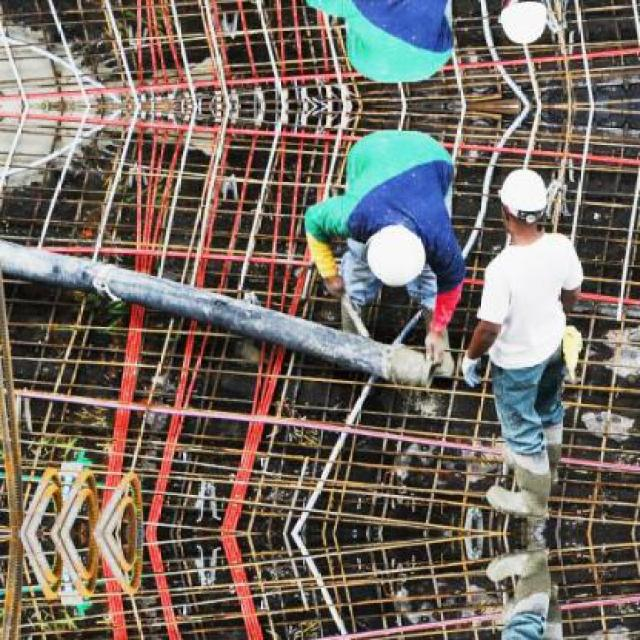helmet: (365, 219, 432, 291), (500, 162, 549, 228), (500, 0, 551, 51)
